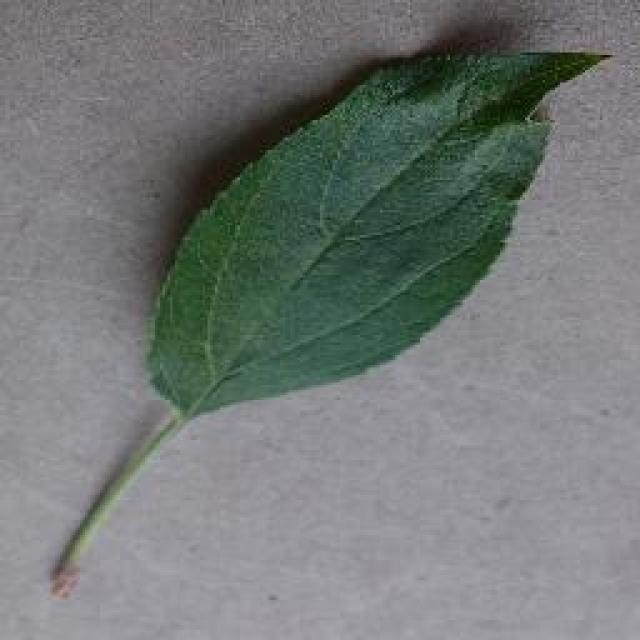apple healthy: (45, 32, 613, 598)
